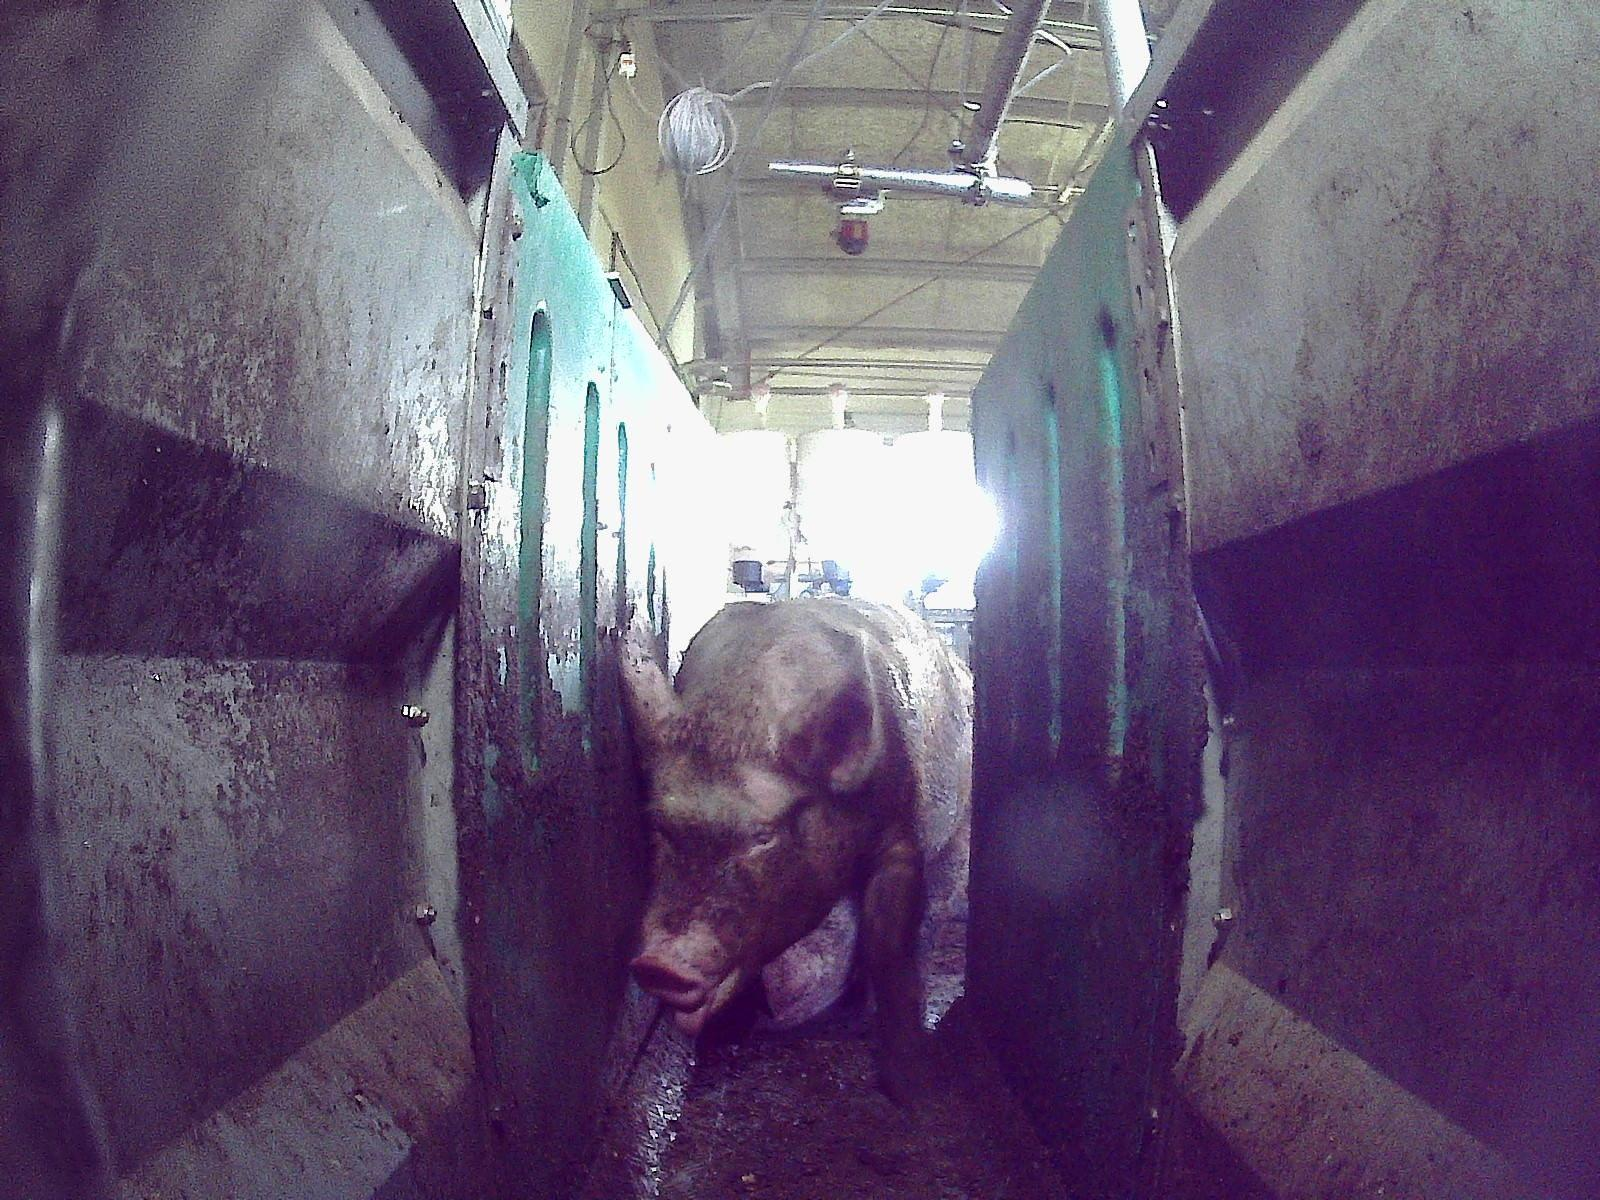Face: (627, 681, 875, 1035)
